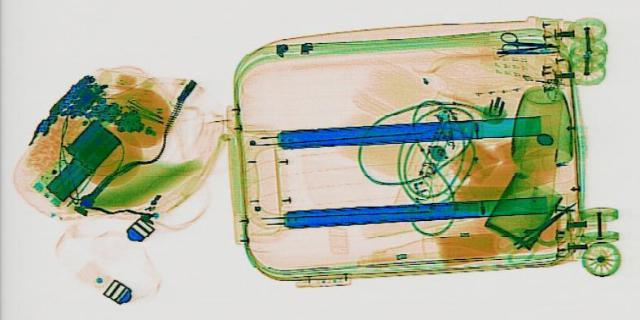Knife: (504, 198, 584, 249)
Scissors: (494, 30, 560, 52)
